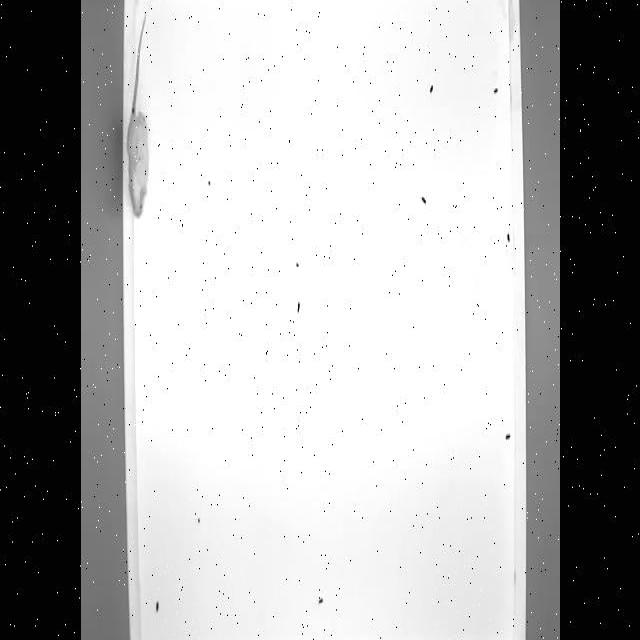rat: (125, 12, 150, 216)
